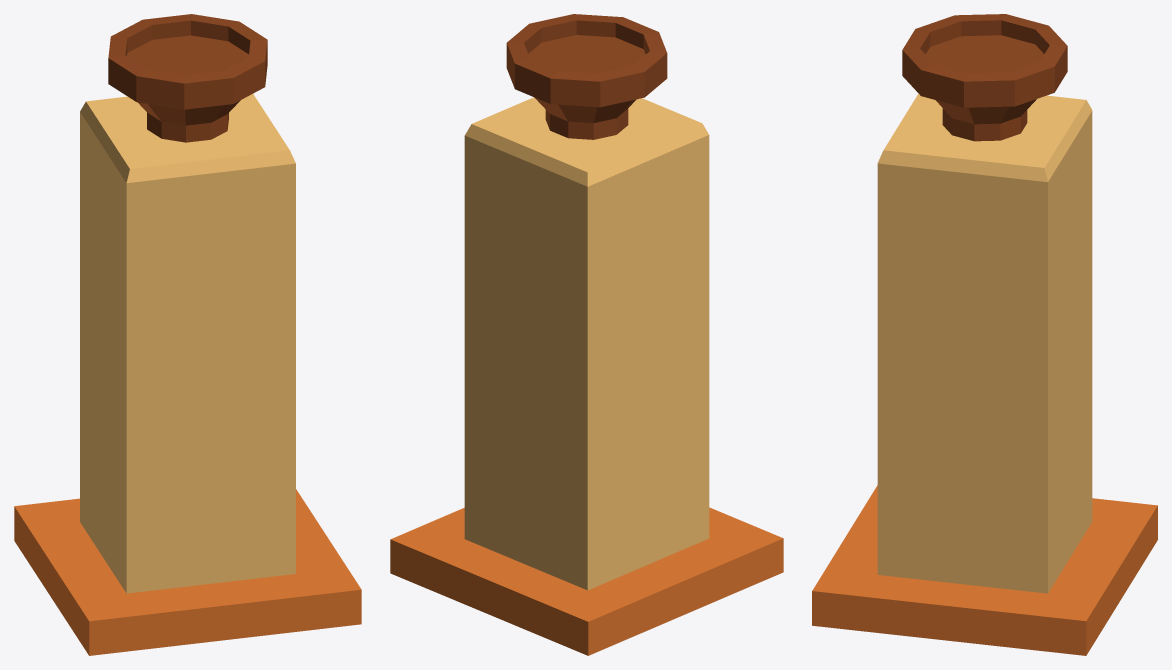
The model's file is obstacle.fbx.
3 renders of one model, left to right at view 1: azimuth 30°, elevation 25°; view 2: azimuth 150°, elevation 25°; view 3: azimuth 270°, elevation 25°, orthographic.
Parts seen in each view (by area): view 1: obstacle; view 2: obstacle; view 3: obstacle.
Part boxes in pixels (x1,y1,x2,y2): obstacle: (14,14,361,655); obstacle: (390,14,783,655); obstacle: (812,14,1157,655).
Bounding box in the file's own units: 34.17 × 58.46 × 34.17.
